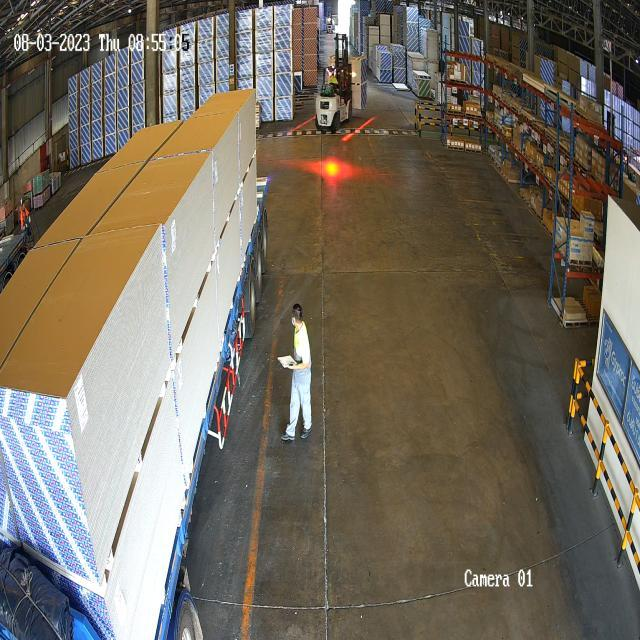forklift: (316, 64, 354, 132)
person: (280, 300, 317, 450)
